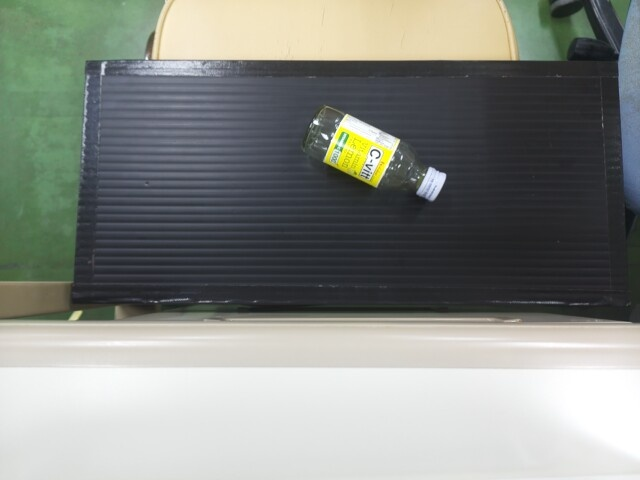glass_bottle: (302, 107, 445, 202)
